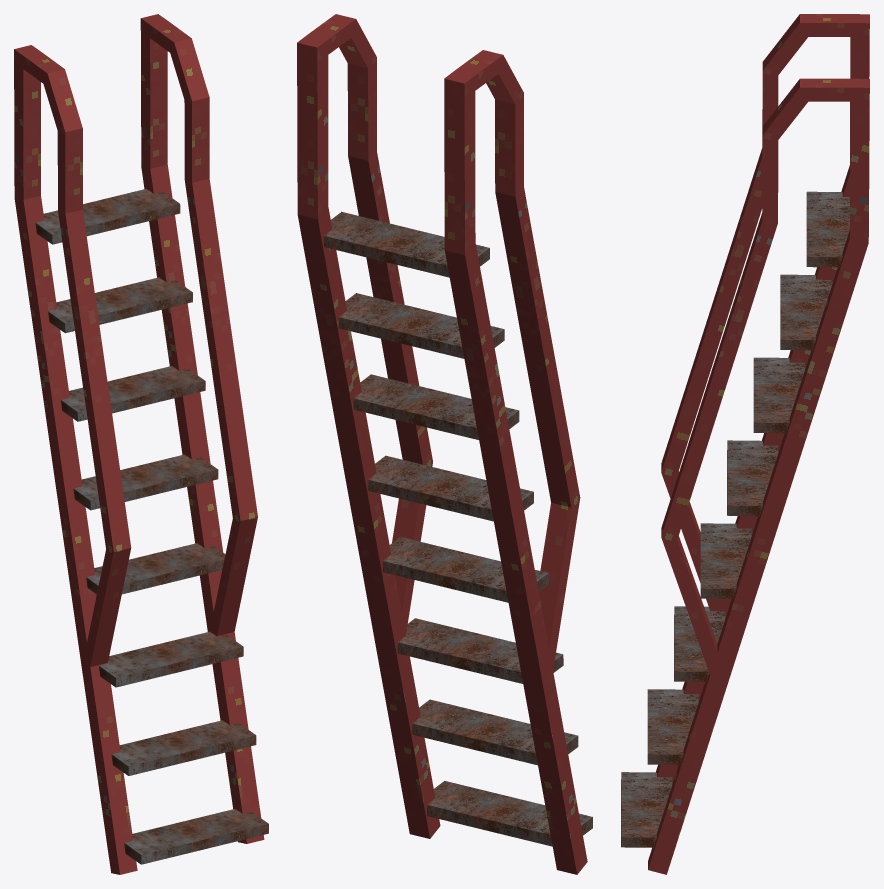
File: ladder.glb
3 views of the same model, side by side, from view 1: azimuth 30°, elevation 25°; view 2: azimuth 150°, elevation 25°; view 3: azimuth 270°, elevation 25° (orthographic). The views are drawn at different scales.
Parts seen in each view (by area): view 1: rails, steps; view 2: rails, steps; view 3: rails, steps.
Part boxes in pixels (left/top/right/bottom): rails: left=14, top=14, right=264, bottom=874; steps: left=35, top=188, right=268, bottom=864; rails: left=297, top=14, right=587, bottom=874; steps: left=324, top=211, right=592, bottom=846; rails: left=648, top=14, right=869, bottom=874; steps: left=621, top=191, right=849, bottom=847.
Size of the model in its own units: 0.2191 by 1.09 by 0.3129.
2 materials, 2 textured.
